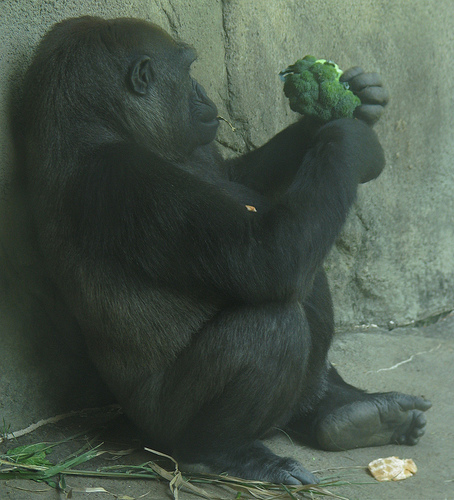broccoli: (275, 53, 360, 121)
